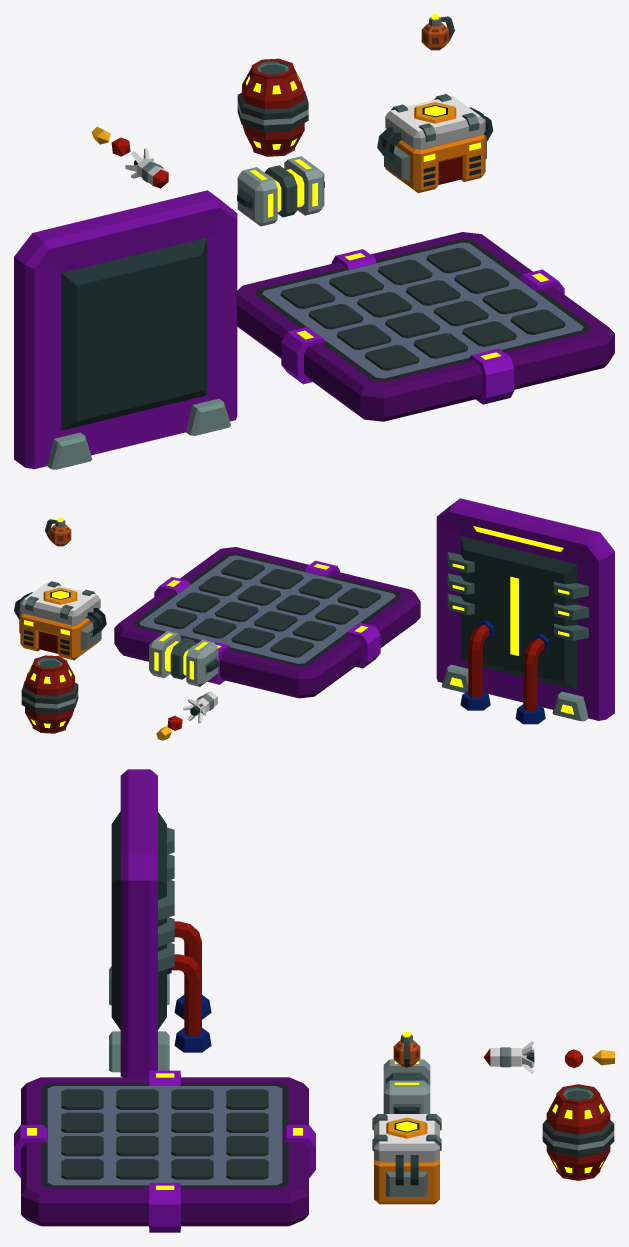
3 views of the same model, one above another, from view 1: azimuth 30°, elevation 25°; view 2: azimuth 150°, elevation 25°; view 3: azimuth 270°, elevation 25° (orthographic). The views are drawn at different scales.
Parts seen in each view (by area): view 1: Cube, Cube.006, Cube.007, Cylinder.009, Cube.008, Cylinder.008, Cylinder.006; view 2: Cube, Cube.006, Cube.007, Cylinder.009, Cube.008, Cylinder.008, Cylinder.006; view 3: Cube.006, Cube, Cube.007, Cylinder.009, Cube.008, Cylinder.008, Cylinder.006.
Part boxes in pixels (x1,y1,x2,y2): Cube: (14,190,237,469); Cube.006: (237,232,614,421); Cube.007: (377,94,493,193); Cylinder.009: (237,58,308,156); Cube.008: (237,156,324,226); Cylinder.008: (125,148,168,188); Cylinder.006: (421,14,454,50); Cube: (436,498,614,724); Cube.006: (114,547,420,698); Cube.007: (14,581,106,660); Cylinder.009: (21,655,78,733); Cube.008: (148,631,218,686); Cylinder.008: (183,691,217,723); Cylinder.006: (45,517,71,546); Cube.006: (14,1070,315,1232); Cube: (109,769,211,1077); Cube.007: (372,1114,441,1204); Cylinder.009: (542,1084,614,1180); Cube.008: (383,1059,430,1113); Cylinder.008: (483,1041,534,1073); Cylinder.006: (393,1031,420,1067).
Size of the model in its own units: 1425 by 501 by 1253.
